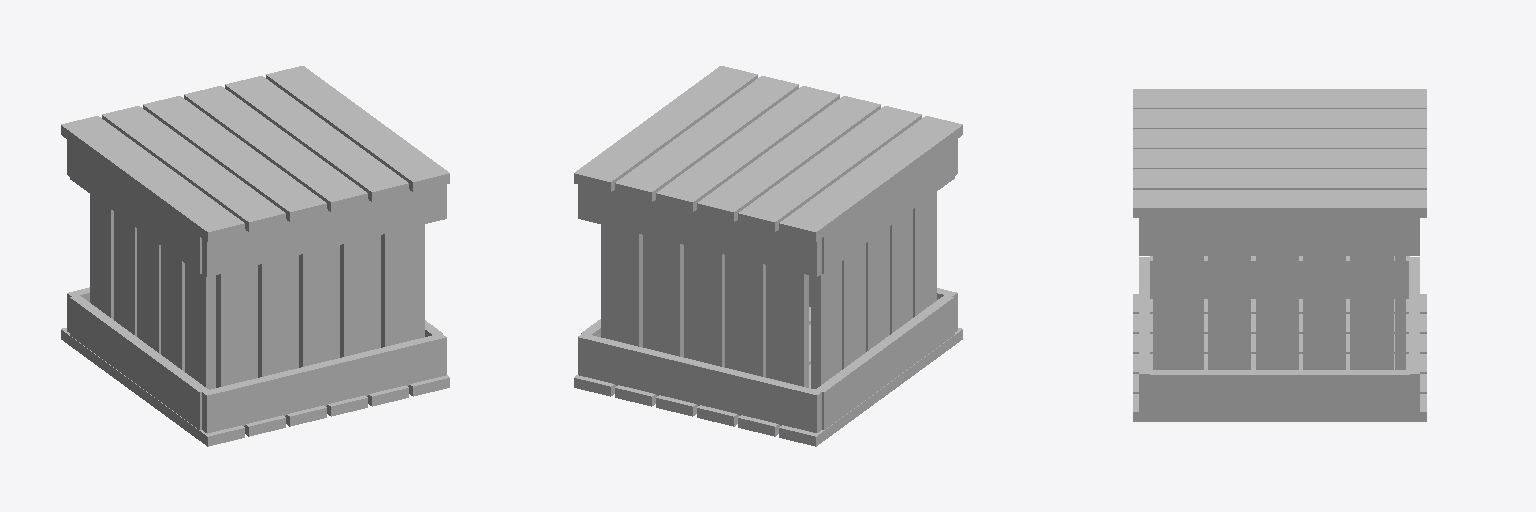
The model's file is Crate 1.obj.
The picture shows the model from 3 angles: view 1: azimuth 30°, elevation 25°; view 2: azimuth 150°, elevation 25°; view 3: azimuth 270°, elevation 25°; orthographic projection.
Parts seen in each view (by area): view 1: Cube.001; view 2: Cube.001; view 3: Cube.001.
Boxes of the visible parts, x1,y1,x2,y2 form: Cube.001: [61, 66, 449, 446]; Cube.001: [574, 66, 962, 446]; Cube.001: [1133, 89, 1426, 421].
Bounding box in the file's own units: 0.8846 × 0.7437 × 0.926.